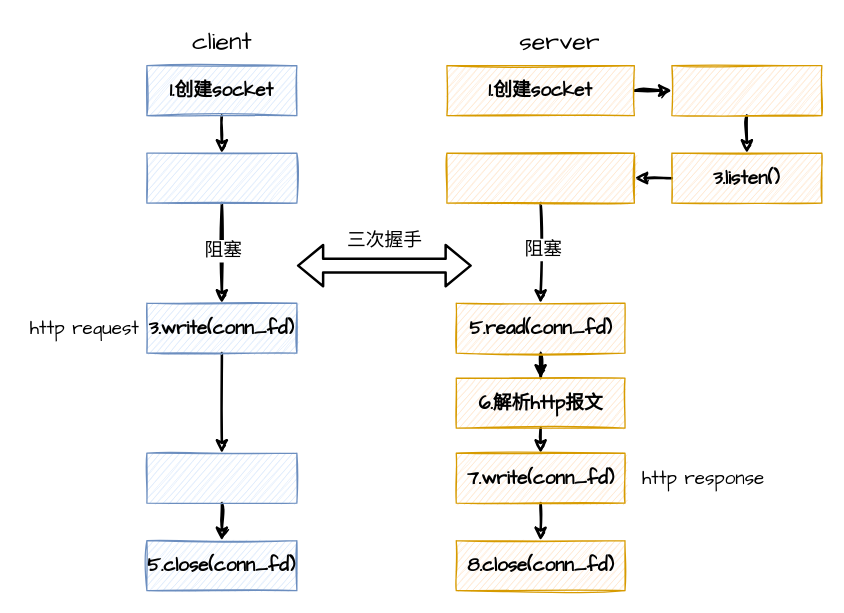
Some shapes in this 844 by 613 pixel diagram are drawn without their labels. The shapes that lost their labels are listed below. From the top down, each one's centre as x and y in pixels, then its label:
point 746,90: 2.bind()
point 221,177: 2.connect()
point 540,177: 4.accept(listen_fd)
point 221,477: 4.read(conn_fd)
